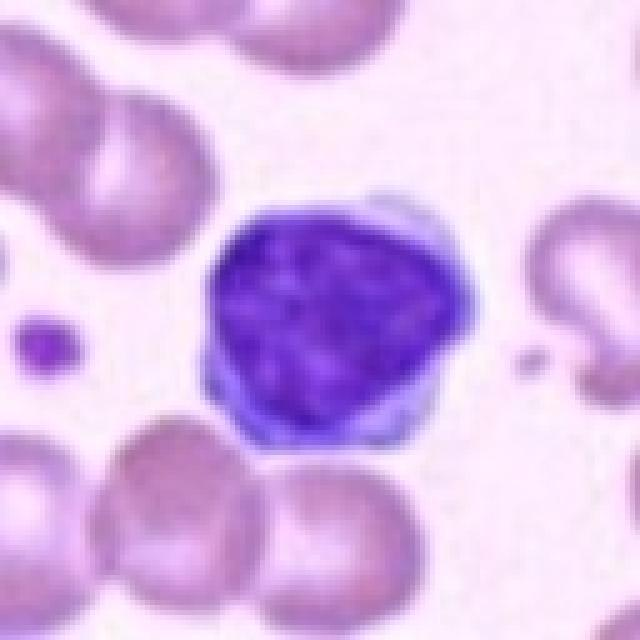lympho: (193, 181, 480, 465)
